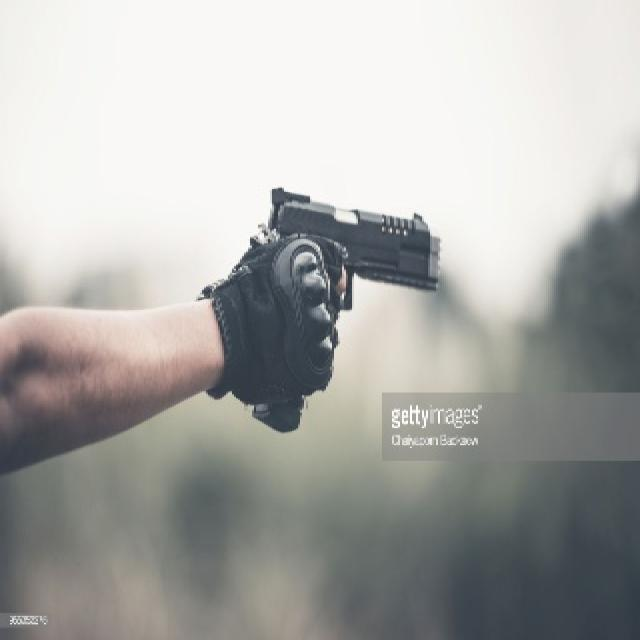handgun: (251, 180, 445, 435)
